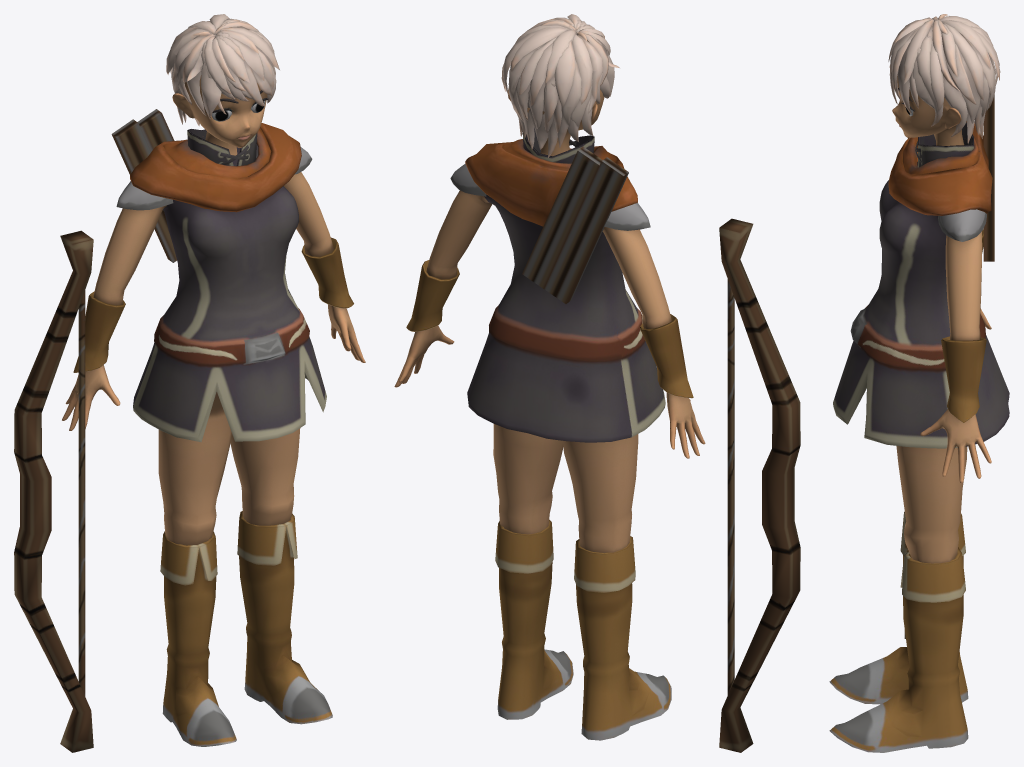
Rendered from Character01.fbx.
The picture shows the model from 3 angles, left to right: view 1: azimuth 30°, elevation 25°; view 2: azimuth 150°, elevation 25°; view 3: azimuth 270°, elevation 25°; orthographic projection. The views are drawn at different scales.
Visible parts, largest first — view 1: Body, Arch, Hair, Box; view 2: Body, Arch, Hair, Box; view 3: Body, Hair, Box.
Part boxes in pixels (x1=…): Body: x1=62, y1=75, x2=365, y2=746; Arch: x1=14, y1=230, x2=93, y2=752; Hair: x1=166, y1=14, x2=279, y2=126; Box: x1=111, y1=109, x2=176, y2=262; Body: x1=394, y1=40, x2=705, y2=740; Arch: x1=719, y1=218, x2=800, y2=752; Hair: x1=501, y1=14, x2=619, y2=157; Box: x1=522, y1=146, x2=628, y2=303; Body: x1=829, y1=75, x2=1009, y2=752; Hair: x1=888, y1=14, x2=1000, y2=143; Box: x1=983, y1=94, x2=994, y2=261.
Bounding box in the file's own units: 104 × 187 × 43.69.
1 material, 1 textured.
